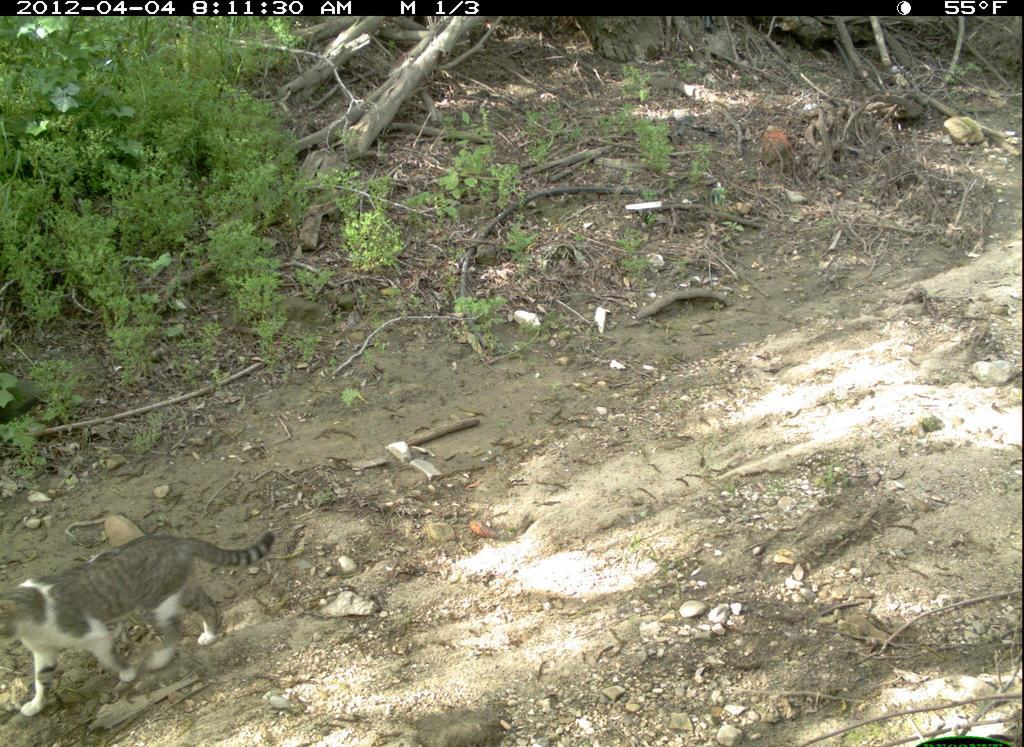cat: (1, 523, 282, 725)
